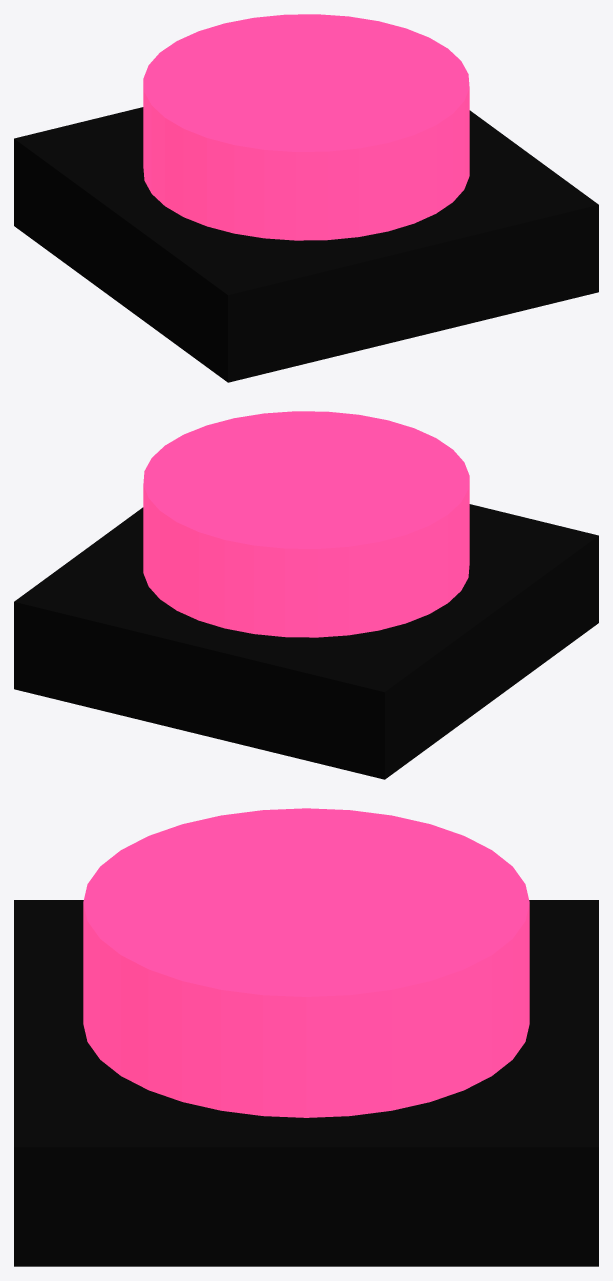
File: Buyout button.fbx
3 renders of one model, top to bottom at view 1: azimuth 30°, elevation 25°; view 2: azimuth 150°, elevation 25°; view 3: azimuth 270°, elevation 25°, orthographic. The views are drawn at different scales.
Parts seen in each view (by area): view 1: Cube, Cylinder; view 2: Cube, Cylinder; view 3: Cube, Cylinder.
Boxes of the visible parts, bbox=[...] form: Cube: bbox=[14, 107, 598, 382]; Cylinder: bbox=[143, 14, 469, 240]; Cube: bbox=[14, 504, 598, 779]; Cylinder: bbox=[143, 411, 469, 637]; Cube: bbox=[14, 900, 598, 1266]; Cylinder: bbox=[83, 808, 529, 1117].
Size of the model in its own units: 52.67 by 23.88 by 52.67.
